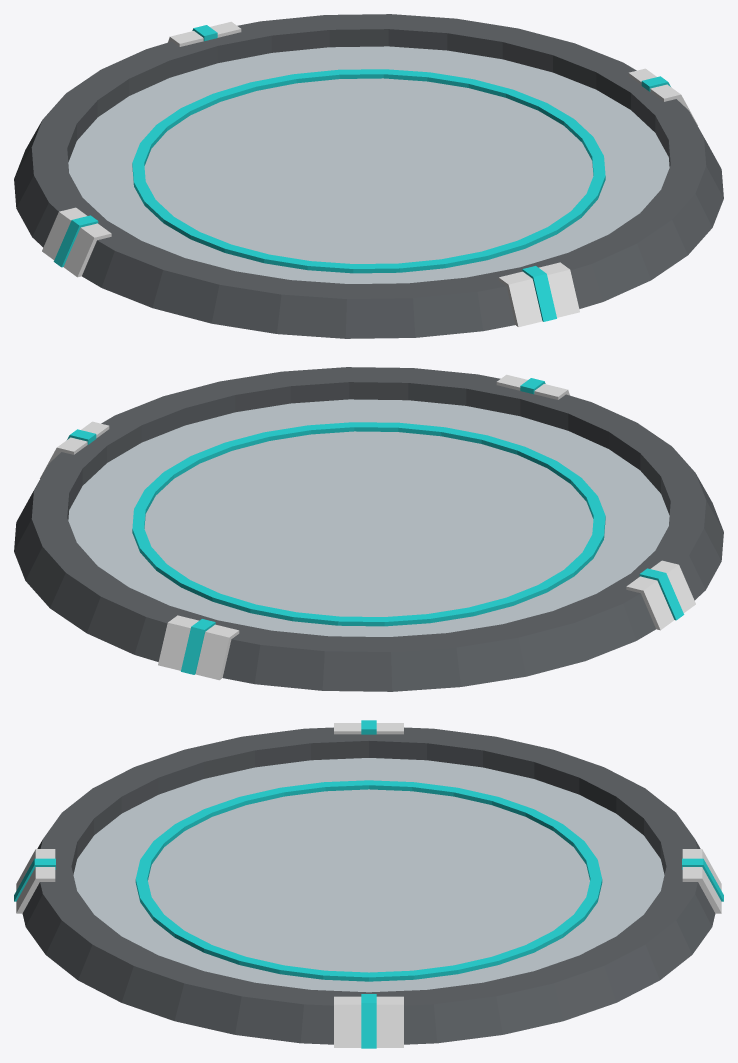
Rendered from Potal.fbx.
3 renders of one model, top to bottom at view 1: azimuth 30°, elevation 25°; view 2: azimuth 150°, elevation 25°; view 3: azimuth 270°, elevation 25°, orthographic.
Parts seen in each view (by area): view 1: 실린더, 원뿔, 실린더.001, 큐브.002, 큐브.001, 큐브.004, 큐브.006, 큐브, 큐브.003; view 2: 실린더, 원뿔, 실린더.001, 큐브.003, 큐브.001, 큐브.005, 큐브.006, 큐브, 큐브.002; view 3: 실린더, 원뿔, 실린더.001, 큐브, 큐브.002, 큐브.003, 큐브.007, 큐브.001.
Boxes of the visible parts, x1=… form: 실린더: x1=68, y1=46, x2=669, y2=283; 원뿔: x1=14, y1=14, x2=723, y2=338; 실린더.001: x1=132, y1=69, x2=605, y2=273; 큐브.002: x1=498, y1=262, x2=579, y2=327; 큐브.001: x1=42, y1=207, x2=111, y2=277; 큐브.004: x1=522, y1=266, x2=556, y2=321; 큐브.006: x1=53, y1=215, x2=98, y2=267; 큐브: x1=628, y1=68, x2=697, y2=125; 큐브.003: x1=168, y1=21, x2=241, y2=46; 실린더: x1=68, y1=399, x2=669, y2=636; 원뿔: x1=14, y1=367, x2=723, y2=691; 실린더.001: x1=132, y1=422, x2=605, y2=626; 큐브.003: x1=158, y1=615, x2=239, y2=680; 큐브.001: x1=626, y1=560, x2=695, y2=630; 큐브.005: x1=181, y1=619, x2=215, y2=674; 큐브.006: x1=639, y1=568, x2=684, y2=620; 큐브: x1=40, y1=421, x2=109, y2=478; 큐브.002: x1=496, y1=374, x2=569, y2=399; 실린더: x1=73, y1=758, x2=664, y2=992; 원뿔: x1=22, y1=727, x2=715, y2=1044; 실린더.001: x1=135, y1=780, x2=602, y2=981; 큐브: x1=334, y1=996, x2=403, y2=1047; 큐브.002: x1=16, y1=849, x2=55, y2=913; 큐브.003: x1=682, y1=849, x2=721, y2=913; 큐브.007: x1=361, y1=994, x2=376, y2=1048; 큐브.001: x1=334, y1=723, x2=403, y2=734.
Size of the model in its own units: 406 by 23.34 by 406.
